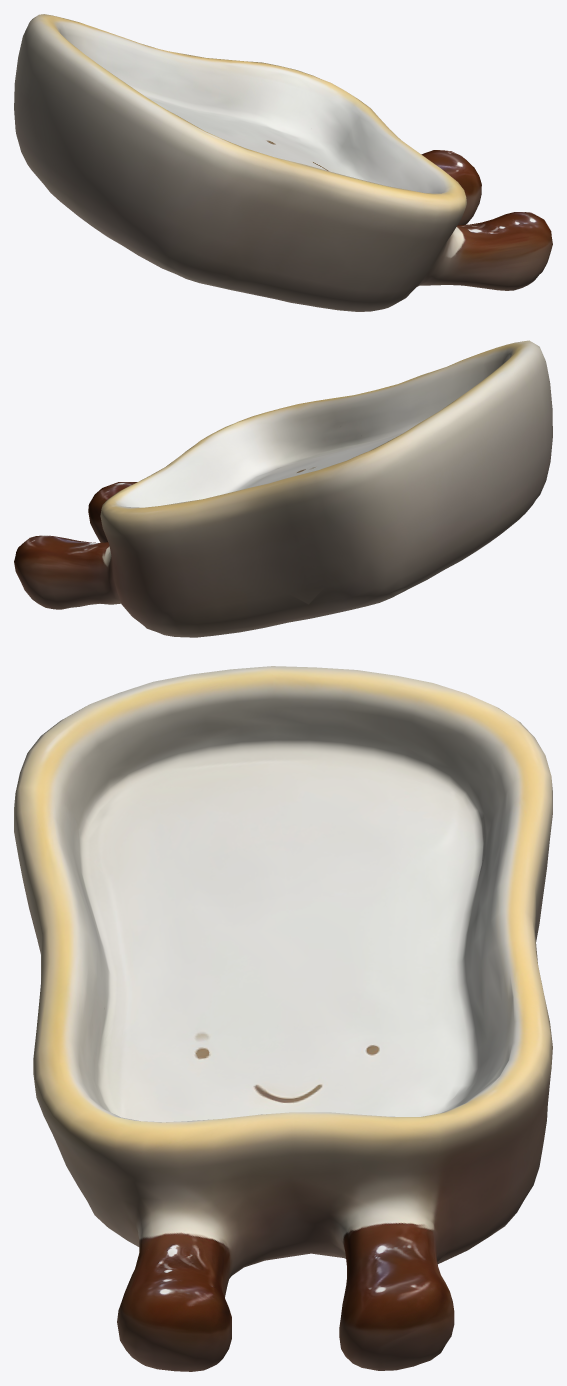
The model's file is 3d 面包人偶模型.glb.
3 renders of one model, top to bottom at view 1: azimuth 30°, elevation 25°; view 2: azimuth 150°, elevation 25°; view 3: azimuth 270°, elevation 25°, orthographic. The views are drawn at different scales.
Visible parts, largest first — view 1: tripo_node_5a04f361-74df-4b9c-ab13-262a322fb498; view 2: tripo_node_5a04f361-74df-4b9c-ab13-262a322fb498; view 3: tripo_node_5a04f361-74df-4b9c-ab13-262a322fb498.
Part boxes in pixels (<box>): tripo_node_5a04f361-74df-4b9c-ab13-262a322fb498: <box>14,14,552,311</box>; tripo_node_5a04f361-74df-4b9c-ab13-262a322fb498: <box>14,340,552,637</box>; tripo_node_5a04f361-74df-4b9c-ab13-262a322fb498: <box>14,666,552,1371</box>.
Size of the model in its own units: 0.998 by 0.6152 by 0.7051.
1 material, 1 textured.
